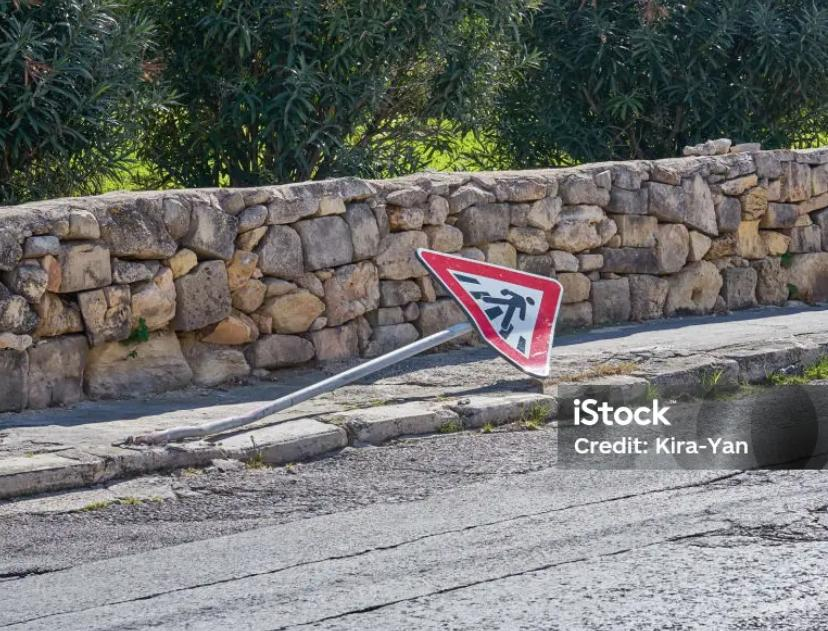obstructed_road_sign: (418, 250, 561, 375)
